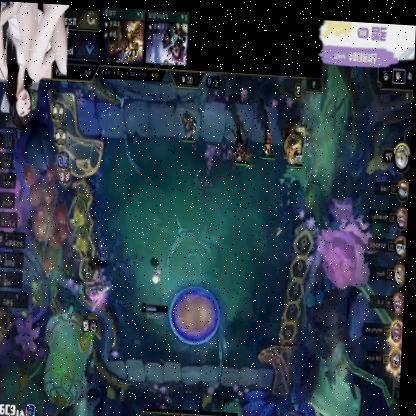streamer: (0, 1, 68, 133)
